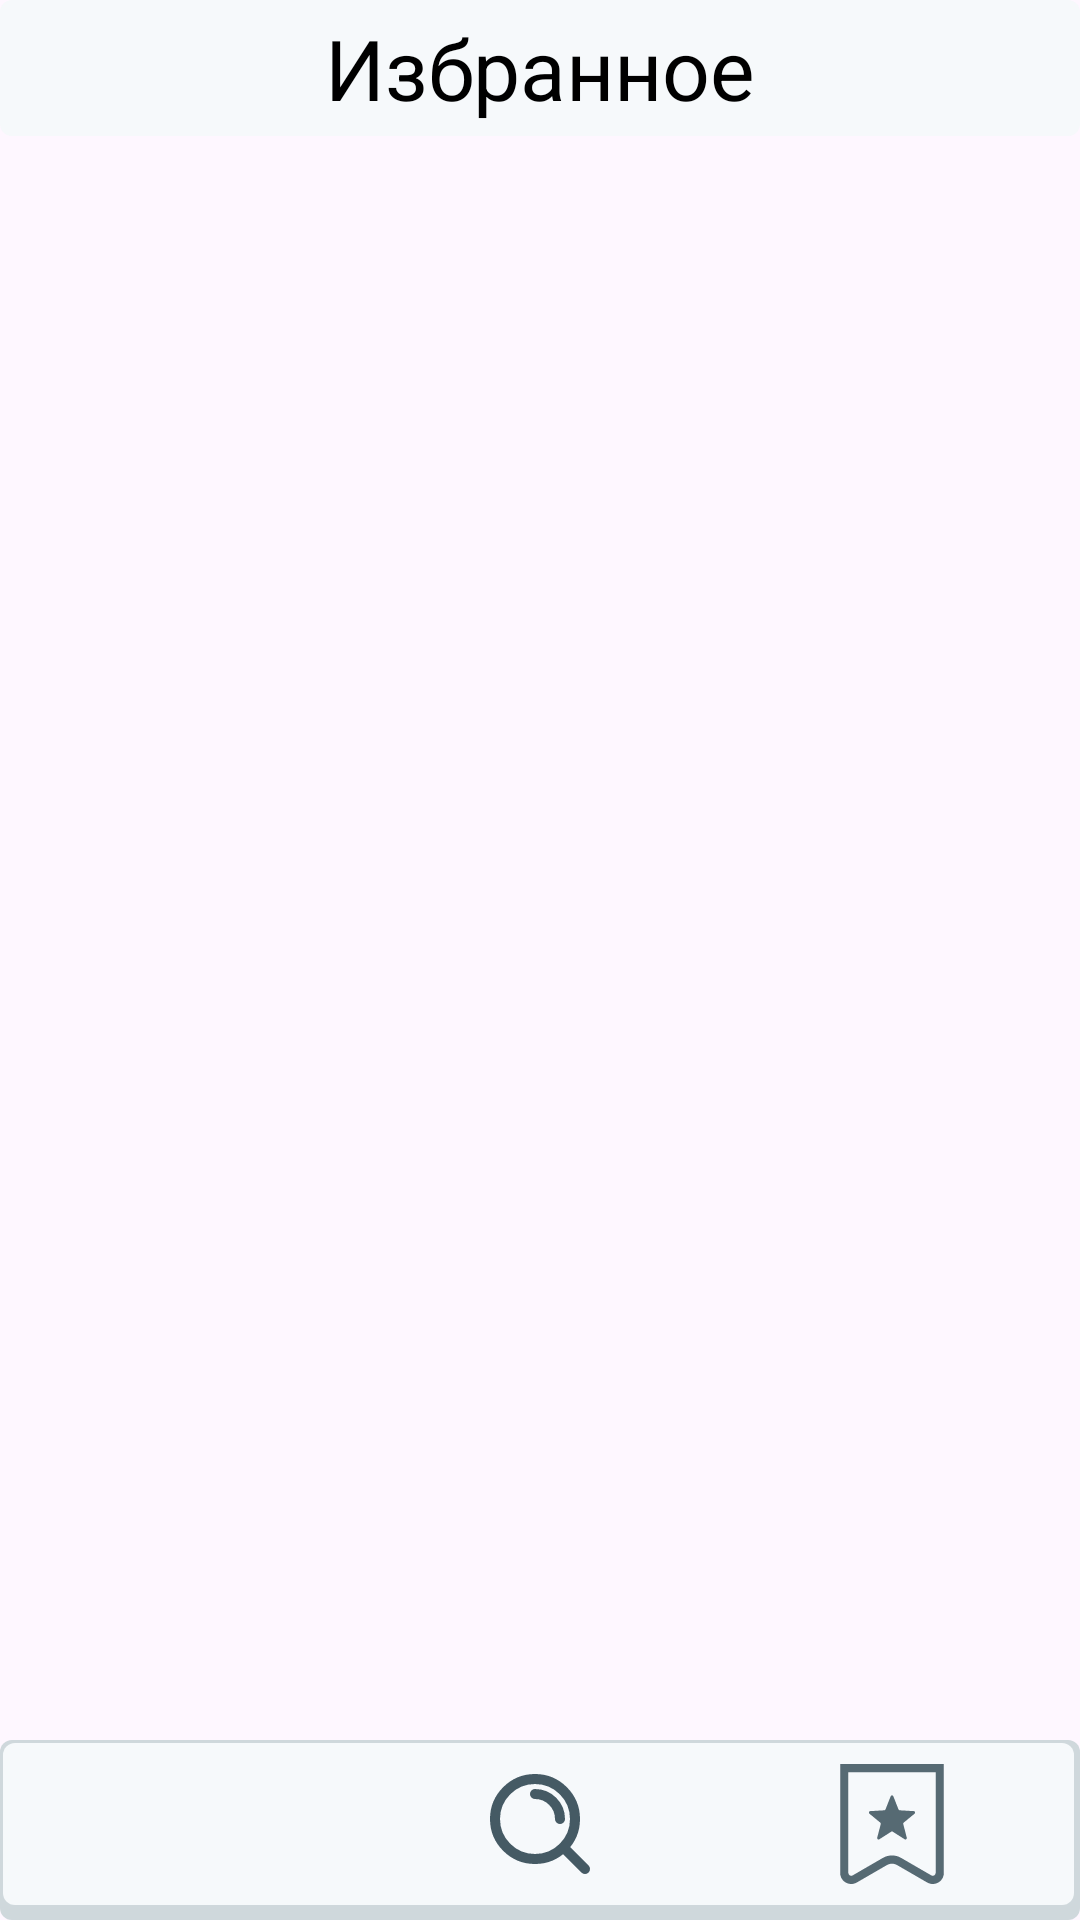

Named icons in this screenshot (1080×1920) and their centers, [x,y]:
favorite: [892,1824]
search: [540,1824]
